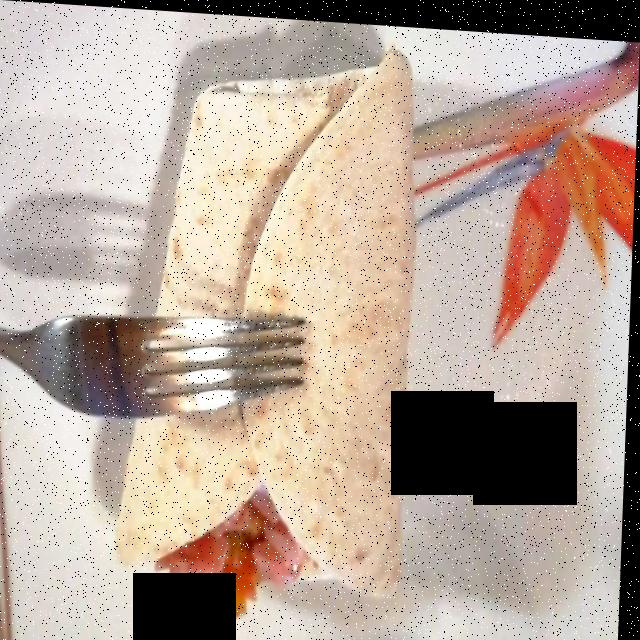fajita-bread-only: (131, 52, 419, 604)
tomato-raw: (199, 501, 264, 607)
